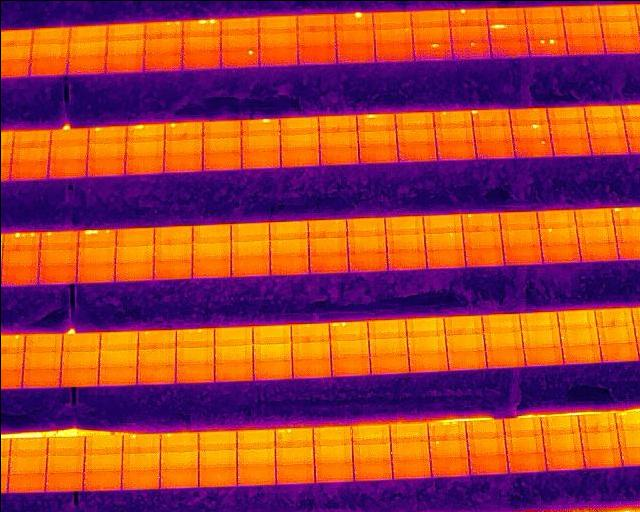Cell: (121, 433, 160, 453), (290, 322, 329, 341), (460, 212, 499, 231), (428, 438, 467, 457), (219, 49, 259, 67), (412, 41, 452, 59), (136, 329, 175, 347), (451, 41, 490, 59), (424, 231, 463, 249), (39, 230, 78, 248), (159, 433, 198, 451), (512, 139, 552, 156), (539, 227, 577, 244), (240, 119, 280, 135), (335, 12, 372, 29), (470, 109, 509, 125), (510, 122, 549, 138), (89, 126, 126, 142), (449, 8, 486, 24), (432, 110, 470, 125)
Cell-Multi: (182, 18, 222, 36), (175, 328, 214, 346), (427, 421, 466, 439), (329, 321, 367, 339), (275, 428, 313, 446), (527, 38, 567, 55), (1, 232, 40, 249), (164, 122, 203, 138), (145, 21, 182, 37)
No-Anomaly: (446, 348, 486, 370), (445, 331, 484, 352), (313, 442, 352, 463), (425, 248, 465, 268), (213, 360, 253, 380), (406, 316, 444, 337), (484, 329, 523, 349), (38, 263, 77, 283), (252, 359, 291, 379), (45, 471, 84, 491), (160, 467, 199, 487), (352, 442, 391, 462), (313, 426, 352, 446), (236, 428, 275, 448), (352, 424, 391, 444), (483, 312, 521, 332), (369, 354, 409, 373), (407, 333, 445, 353), (61, 348, 99, 368), (444, 314, 482, 334), (485, 348, 523, 368), (251, 341, 291, 360), (521, 328, 559, 348), (596, 323, 634, 343), (557, 309, 597, 328), (77, 262, 115, 282), (430, 456, 468, 476), (352, 461, 392, 480), (469, 454, 507, 474), (21, 368, 61, 387), (98, 364, 136, 384), (231, 221, 269, 241), (198, 467, 238, 486), (197, 448, 237, 467), (160, 449, 198, 469), (581, 429, 619, 449), (466, 418, 504, 438), (389, 421, 427, 441), (331, 355, 370, 374), (292, 358, 331, 377), (175, 344, 214, 363), (214, 325, 253, 344), (251, 323, 290, 342), (144, 53, 183, 72), (67, 55, 106, 74), (258, 47, 297, 66), (258, 30, 297, 49), (46, 453, 85, 472), (120, 469, 159, 488), (347, 236, 386, 255), (59, 366, 98, 385), (307, 219, 346, 238), (7, 473, 46, 492), (116, 227, 155, 246), (192, 224, 231, 243), (423, 213, 462, 232), (238, 466, 277, 485), (504, 434, 543, 453), (84, 434, 123, 453), (46, 435, 85, 454), (197, 430, 236, 449), (473, 139, 514, 157), (435, 141, 476, 159), (550, 137, 591, 155), (192, 241, 230, 260), (408, 353, 446, 372), (524, 346, 562, 365), (561, 344, 599, 363), (599, 342, 637, 361), (367, 318, 405, 337), (520, 310, 558, 329), (541, 244, 579, 263), (115, 263, 153, 282), (392, 458, 430, 477), (8, 454, 46, 473), (508, 453, 546, 472), (589, 136, 627, 155), (391, 440, 429, 459), (543, 432, 581, 451), (136, 346, 176, 364), (114, 245, 154, 263), (385, 233, 425, 251), (307, 238, 347, 256), (384, 216, 424, 234), (274, 464, 314, 482), (595, 308, 632, 327), (83, 470, 120, 489), (347, 217, 384, 236), (584, 448, 621, 467), (504, 416, 541, 435), (579, 242, 618, 260), (22, 351, 61, 369), (98, 349, 137, 367), (213, 343, 252, 361), (292, 340, 331, 358), (99, 330, 138, 348), (559, 328, 598, 346), (154, 244, 193, 262), (308, 255, 347, 273), (230, 257, 269, 275), (1, 248, 40, 266), (175, 363, 214, 381), (498, 211, 537, 229), (86, 158, 125, 176), (358, 144, 397, 162), (545, 451, 584, 469), (236, 448, 275, 466), (578, 413, 617, 431), (463, 249, 504, 266), (314, 463, 352, 481), (270, 238, 308, 256), (368, 336, 406, 354), (330, 339, 368, 357), (62, 333, 100, 351), (0, 266, 38, 284), (153, 262, 191, 280), (375, 42, 413, 60), (463, 231, 501, 249), (269, 220, 307, 238), (154, 226, 192, 244), (537, 209, 575, 227), (125, 155, 163, 173), (48, 160, 86, 178), (373, 11, 411, 29), (84, 453, 122, 471), (121, 451, 159, 469), (467, 437, 505, 455), (540, 414, 578, 432), (583, 104, 623, 121), (23, 334, 63, 351), (386, 252, 426, 269), (347, 254, 387, 271), (565, 37, 605, 54), (297, 46, 337, 63), (500, 229, 540, 246), (576, 226, 616, 243), (319, 146, 359, 163), (410, 10, 450, 27), (106, 55, 143, 73), (182, 52, 219, 70), (574, 208, 611, 226), (10, 160, 47, 178), (394, 111, 433, 128), (269, 256, 308, 273), (39, 247, 78, 264), (563, 21, 602, 38), (144, 36, 183, 53), (163, 153, 202, 170), (397, 143, 436, 160), (279, 131, 318, 148), (202, 135, 241, 152), (486, 7, 525, 24), (521, 6, 562, 22), (603, 36, 639, 54), (192, 260, 230, 277), (503, 247, 541, 264), (337, 43, 375, 60), (107, 38, 145, 55), (220, 33, 258, 50), (600, 19, 638, 36), (220, 17, 258, 34), (137, 364, 175, 381), (202, 151, 240, 168), (298, 13, 336, 30), (275, 446, 313, 463), (585, 120, 625, 136), (67, 39, 107, 55), (318, 130, 358, 146), (241, 134, 281, 150), (472, 124, 512, 140), (33, 26, 70, 43), (9, 438, 46, 455), (547, 106, 586, 122), (508, 107, 547, 123), (317, 114, 356, 130), (297, 31, 336, 47), (181, 35, 220, 51), (373, 26, 412, 42), (412, 26, 451, 42), (258, 15, 297, 31), (279, 149, 318, 165), (240, 150, 279, 166), (87, 142, 126, 158), (164, 138, 203, 154), (560, 5, 599, 21), (395, 126, 436, 141), (203, 120, 241, 136), (77, 247, 115, 263), (525, 22, 563, 38), (336, 27, 374, 43), (49, 143, 87, 159), (548, 122, 588, 137), (30, 42, 67, 58), (451, 25, 488, 41), (11, 144, 48, 160), (231, 241, 270, 256), (489, 42, 528, 57), (434, 125, 473, 140), (30, 59, 66, 75), (107, 23, 145, 38), (12, 129, 50, 144), (51, 128, 89, 143), (598, 6, 638, 20), (280, 117, 317, 132), (70, 24, 107, 39), (357, 130, 395, 144), (126, 140, 164, 154), (0, 59, 30, 76), (0, 28, 33, 43), (0, 44, 31, 59)
Unclassified: (78, 228, 116, 247), (488, 23, 526, 41), (355, 112, 394, 129), (126, 122, 164, 139)
